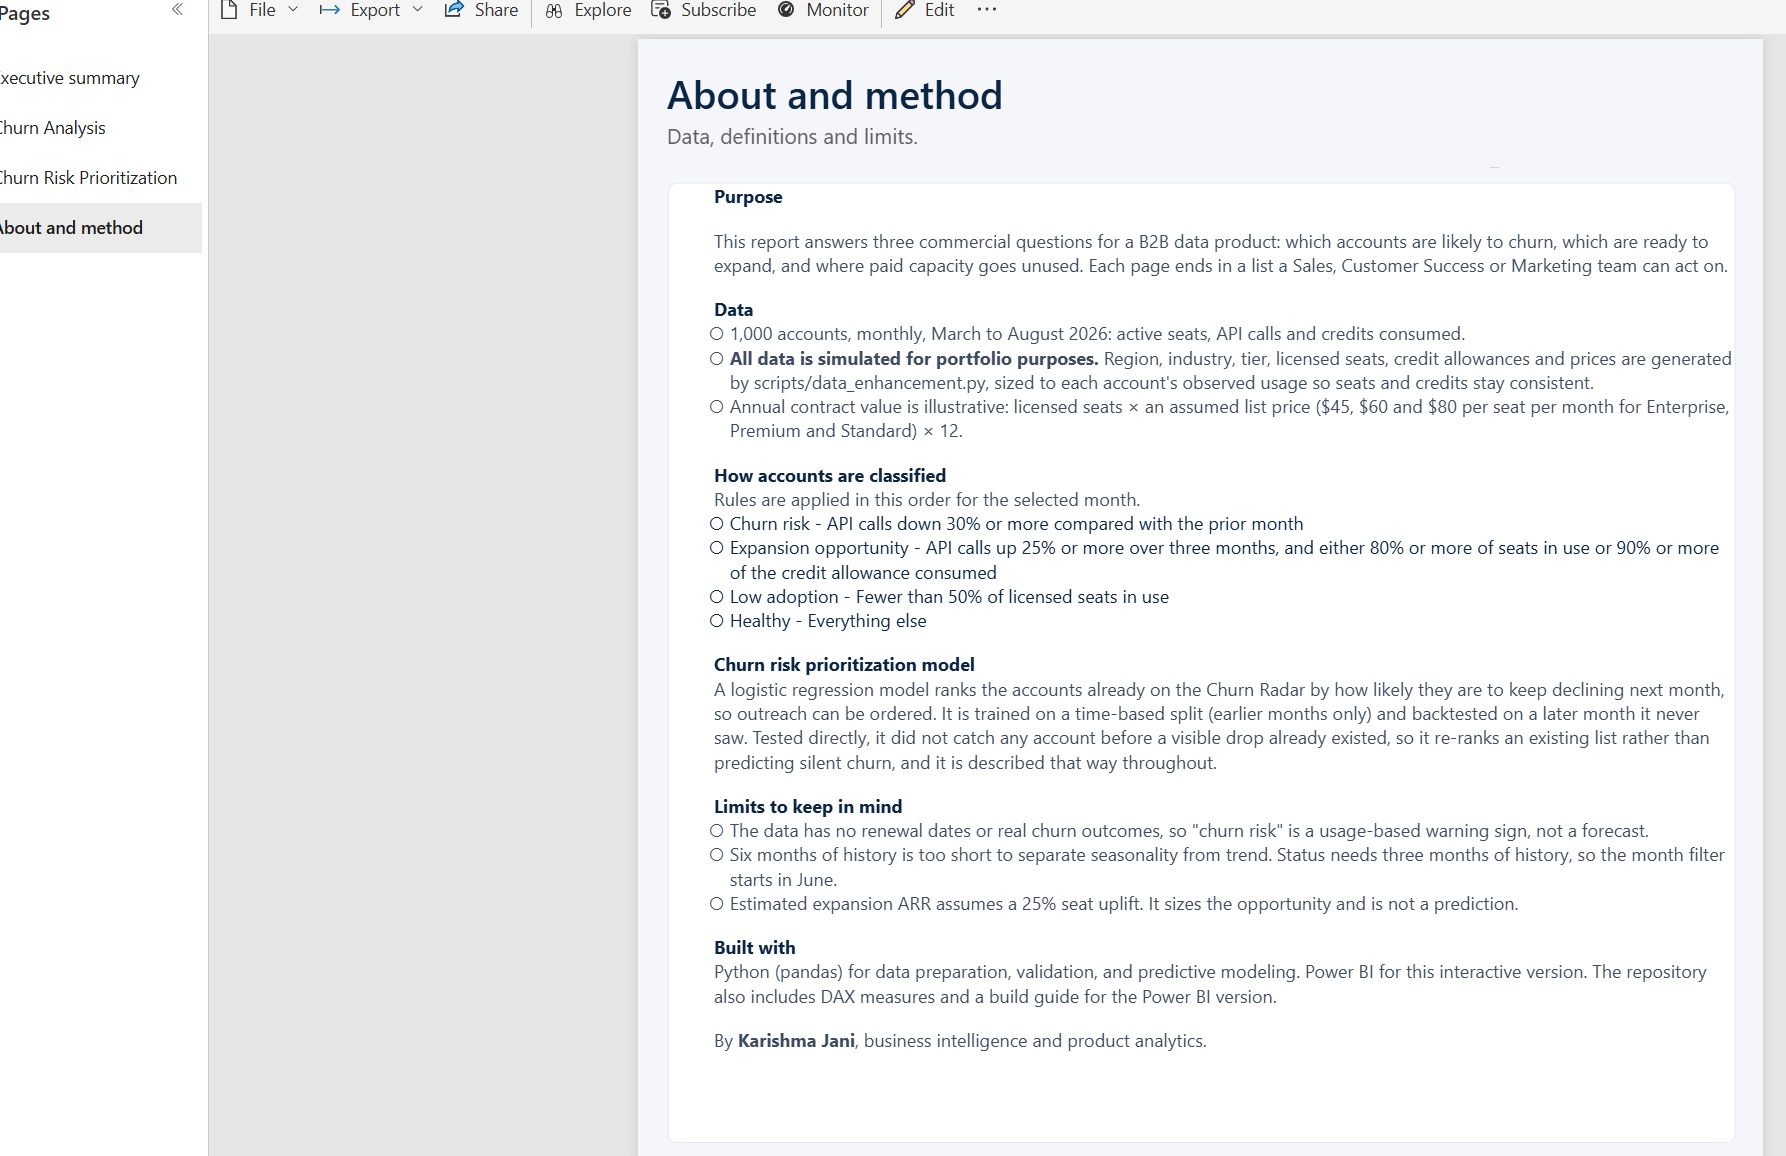

The dashboard page shown, as its layout file describes it:
{"tool":"powerbi","page":{"name":"About and method","canvas":[1000,1000],"ordinal":3},"visuals":[{"type":"textbox","title":"About and method","box":[25.7,24.3,740,90],"z":1},{"type":"textbox","box":[26.2,127.5,948.8,853.8],"z":2}]}

Visuals, with their boxes on the page's 1000x1000 design canvas (x1, y1, x2, y2). These are canvas units, not pixel positions in the 1786x1156 screenshot, which may show the page scaled, cropped or inside an application window:
"About and method" textbox: 26/24/766/114
textbox: 26/128/975/981
